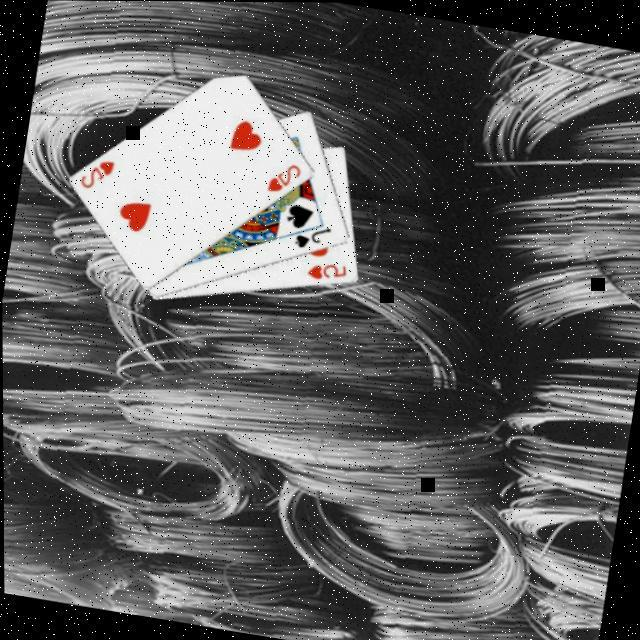2H: (73, 153, 116, 195), (261, 157, 303, 199)
5H: (301, 256, 348, 287)
JS: (288, 219, 332, 255)
